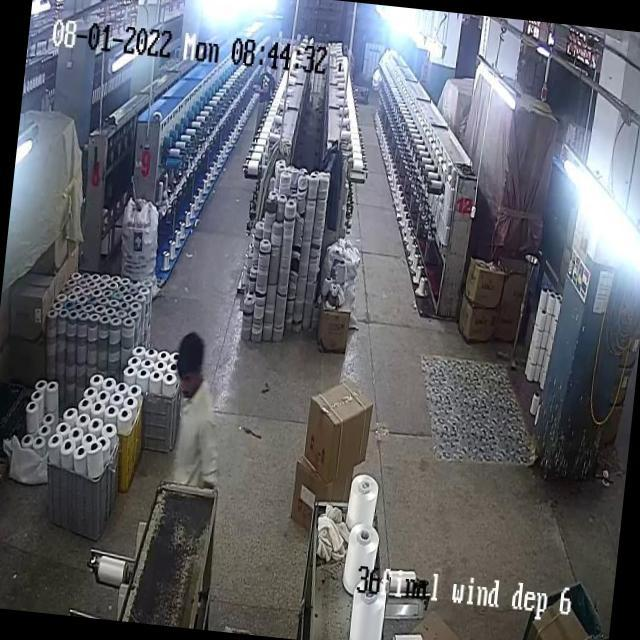person: (160, 332, 228, 487)
